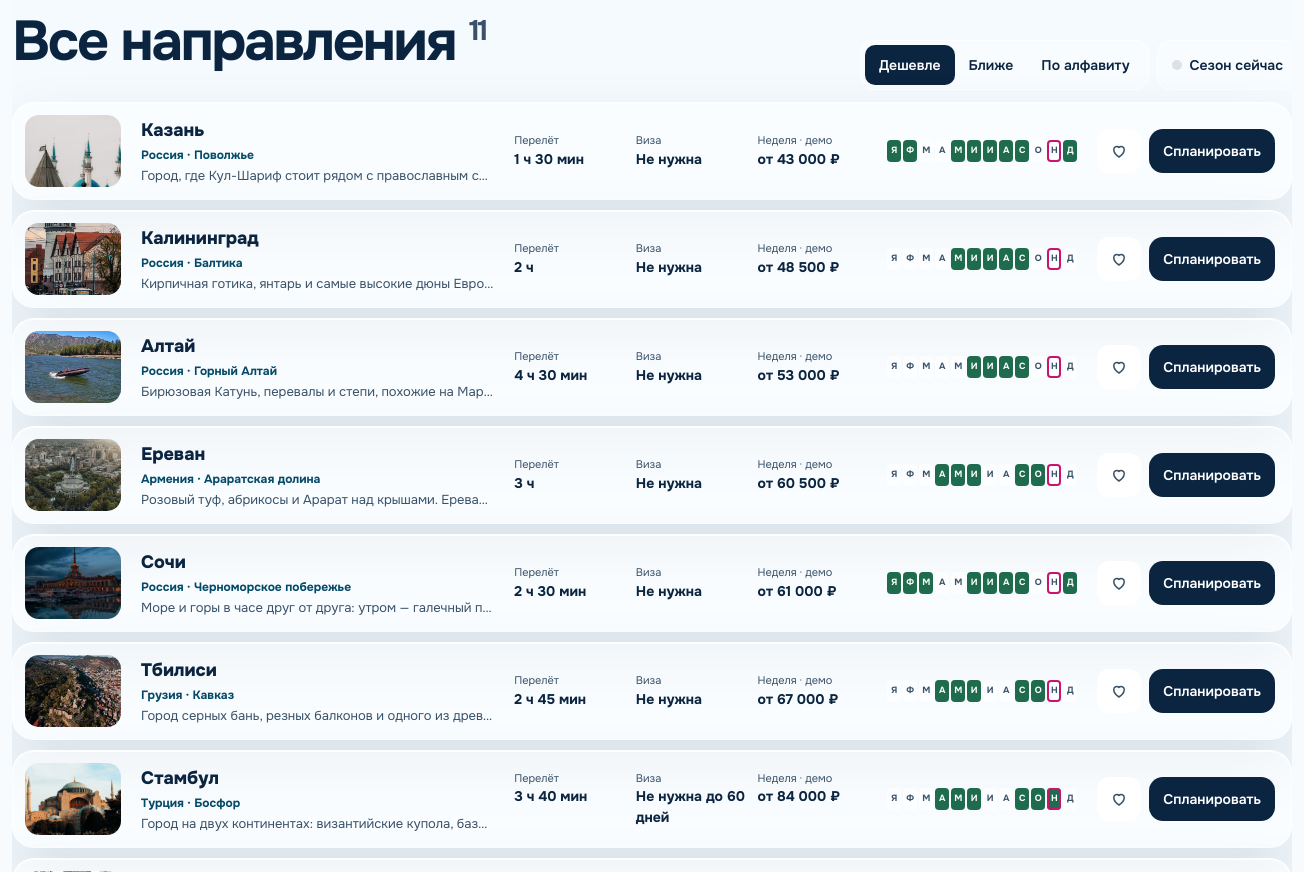
Scenario: DestList › toggles favorites and links to planning
This screenshot has width=1304, height=872.
Click the button named "Казань в избранное". click: (1119,151)
box: [1097,129,1141,173]
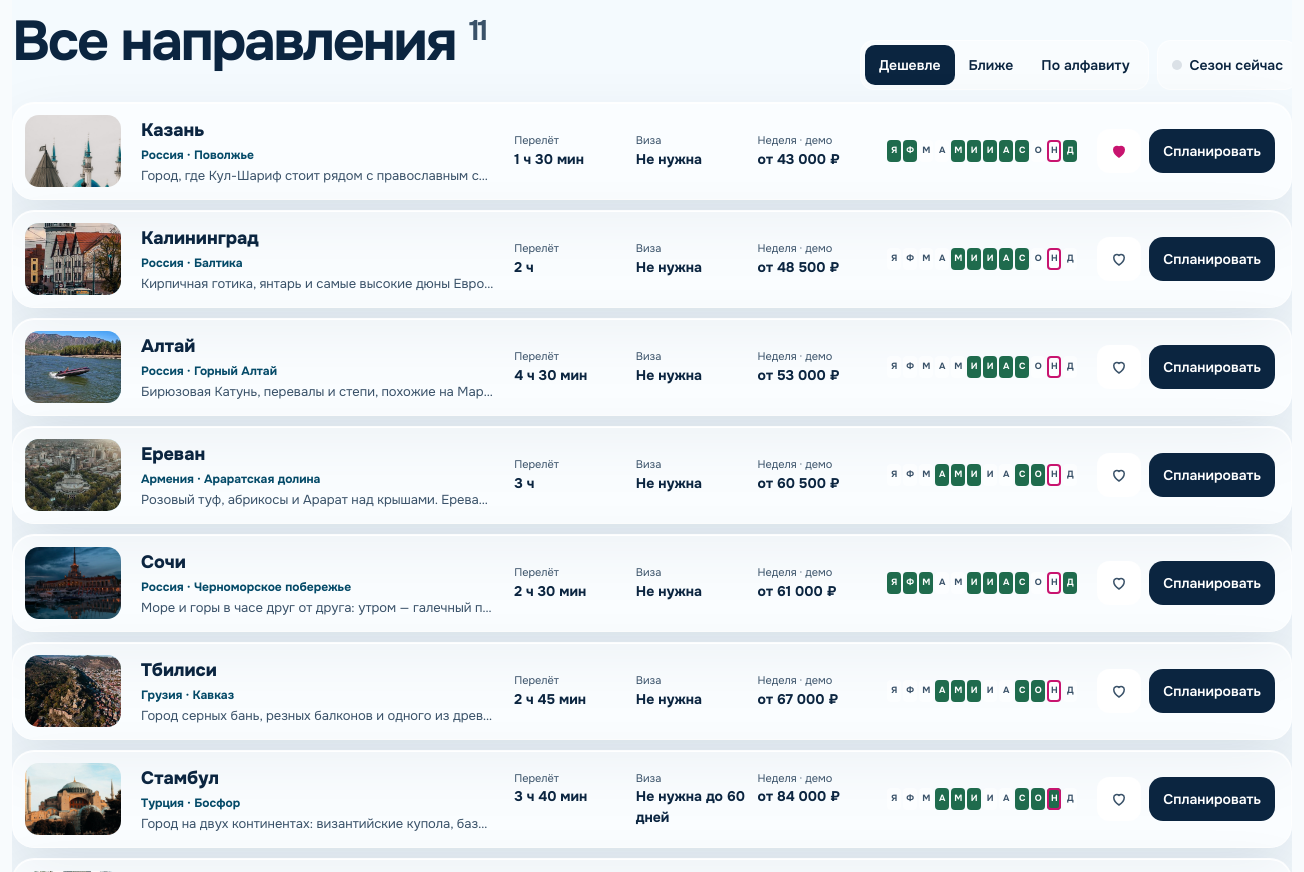
expect the button named "Казань в избранное" is pressed: met, box [1097,129,1141,173]
